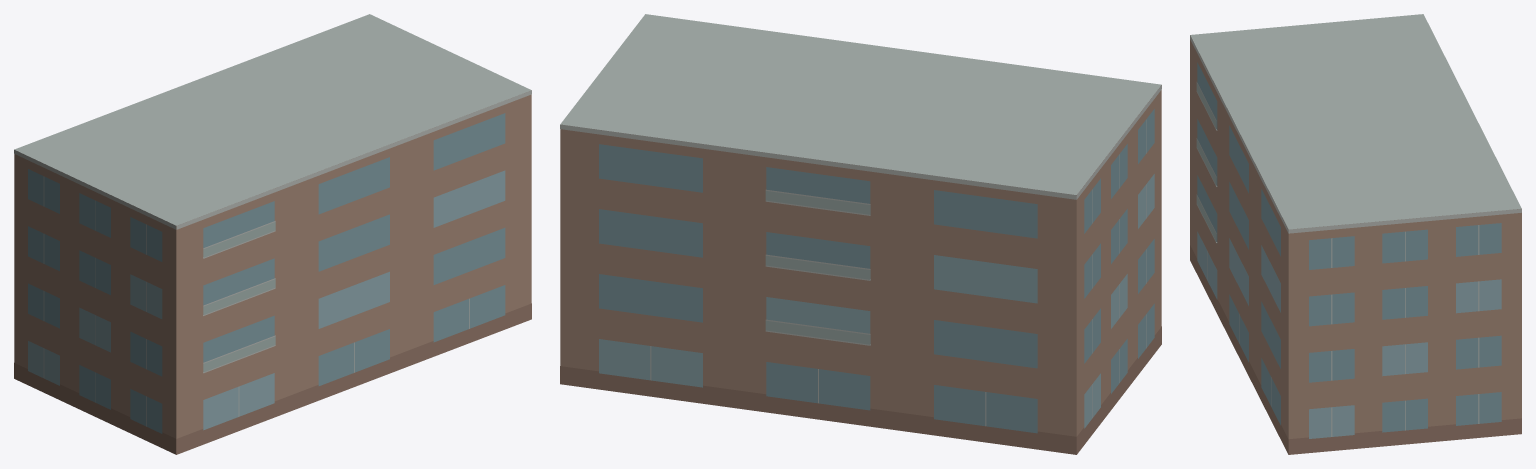
File: survey-upis-32698517.glb
The picture shows the model from 3 angles, left to right: view 1: azimuth 30°, elevation 25°; view 2: azimuth 150°, elevation 25°; view 3: azimuth 270°, elevation 25°; orthographic projection. The views are drawn at different scales.
Visible parts, largest first — view 1: survey-upis-32698517.tmp; view 2: survey-upis-32698517.tmp; view 3: survey-upis-32698517.tmp.
Part boxes in pixels (box(x1,y1,x2,y2)): survey-upis-32698517.tmp: box(14, 14, 531, 454); survey-upis-32698517.tmp: box(560, 14, 1161, 454); survey-upis-32698517.tmp: box(1190, 14, 1521, 454).
Size of the model in its own units: 27.7 by 13.5 by 18.02.
